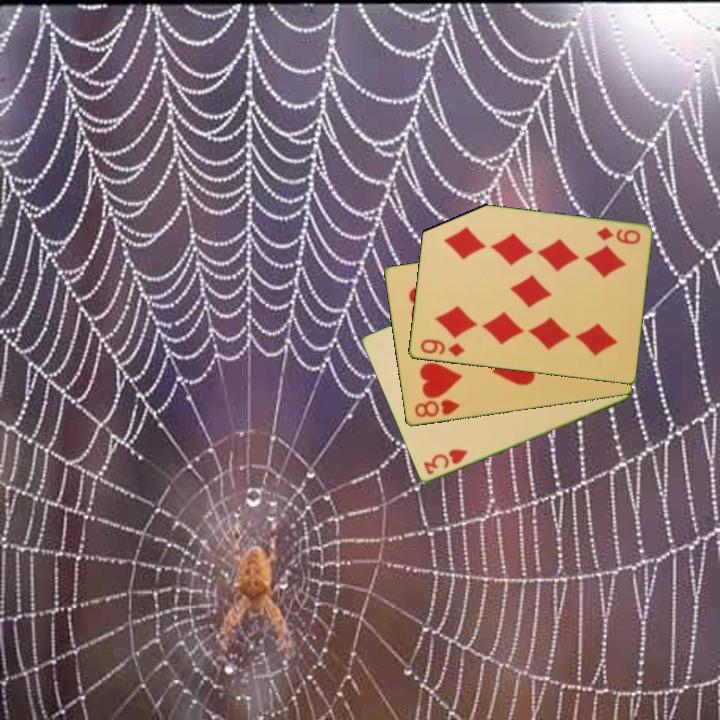3h: (420, 446, 471, 478)
8h: (411, 396, 462, 421)
9d: (417, 336, 467, 360), (593, 224, 643, 248)
